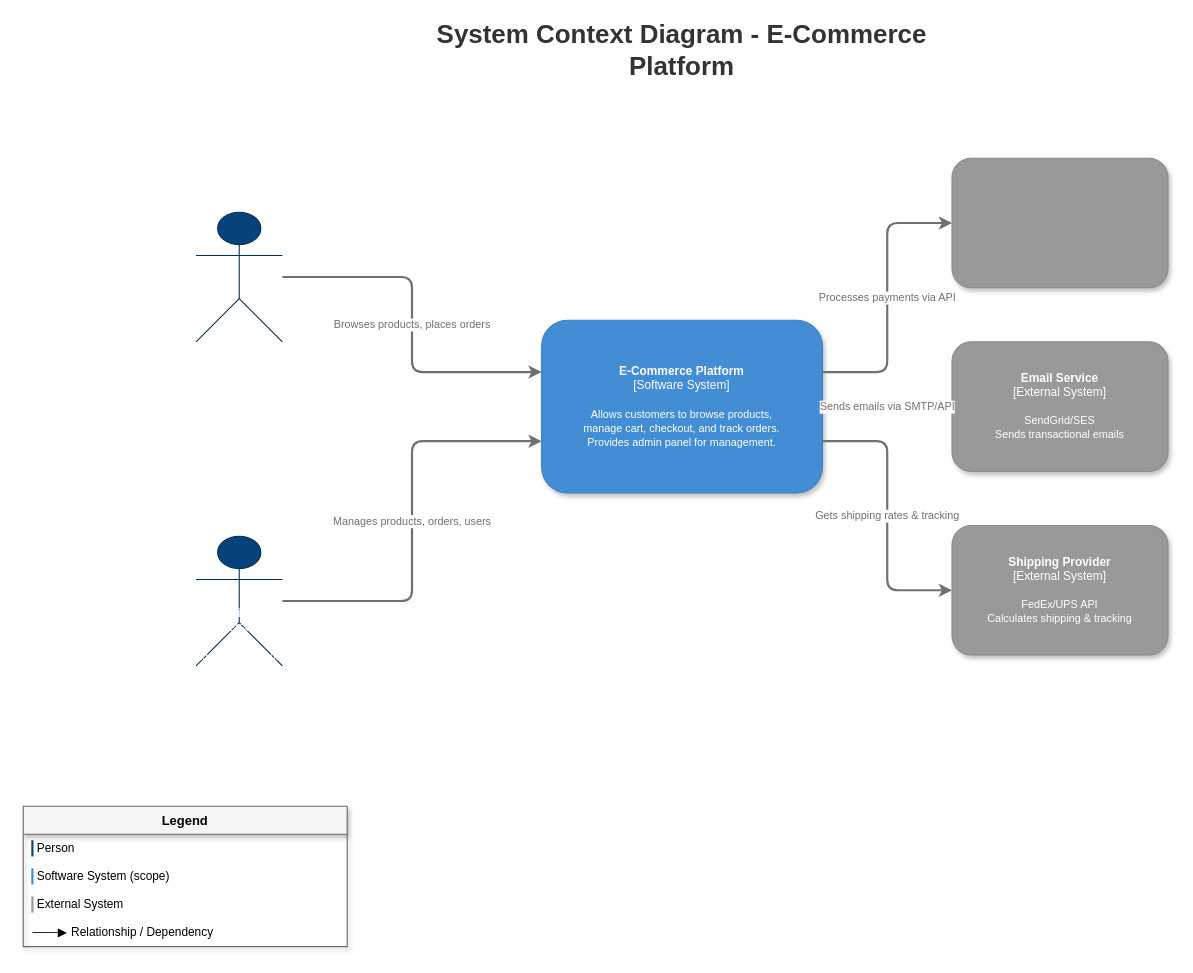
The diagram is 1193 pixels wide and 973 high, and some of its shapes have lost their labels. The centre of each missing label's shape, as x and y in pixels:
Customer [Person] A user who browses products, adds to cart, and makes purchases: the point at 238,276
Payment Gateway [External System] Stripe/PayPal Handles payment processing: the point at 1060,224
